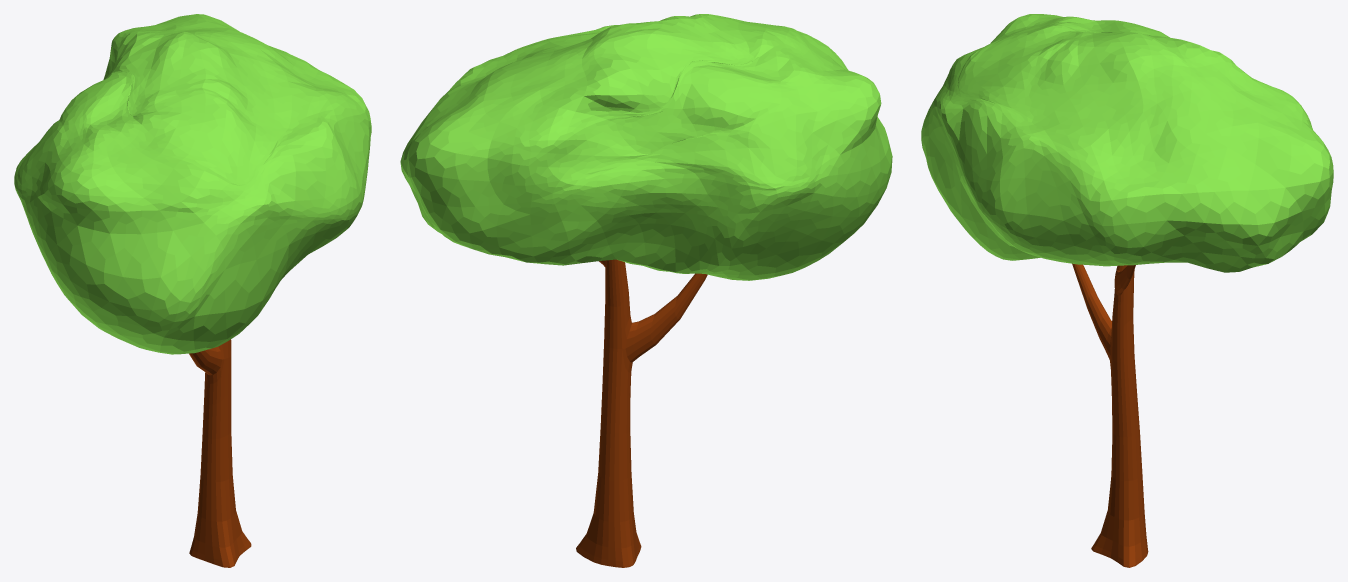
Rendered from Tree(2branch).fbx.
3 views of the same model, side by side, from view 1: azimuth 30°, elevation 25°; view 2: azimuth 150°, elevation 25°; view 3: azimuth 270°, elevation 25° (orthographic). The views are drawn at different scales.
Visible parts, largest first — view 1: Icosphere.004, Cylinder.001; view 2: Icosphere.004, Cylinder.001; view 3: Icosphere.004, Cylinder.001.
Boxes of the visible parts, bbox=[...] form: Icosphere.004: bbox=[14, 14, 371, 354]; Cylinder.001: bbox=[189, 339, 251, 567]; Icosphere.004: bbox=[400, 14, 892, 280]; Cylinder.001: bbox=[576, 259, 707, 567]; Icosphere.004: bbox=[921, 14, 1333, 272]; Cylinder.001: bbox=[1072, 263, 1148, 567].
Bounding box in the file's own units: 1946 × 2740 × 2049.
